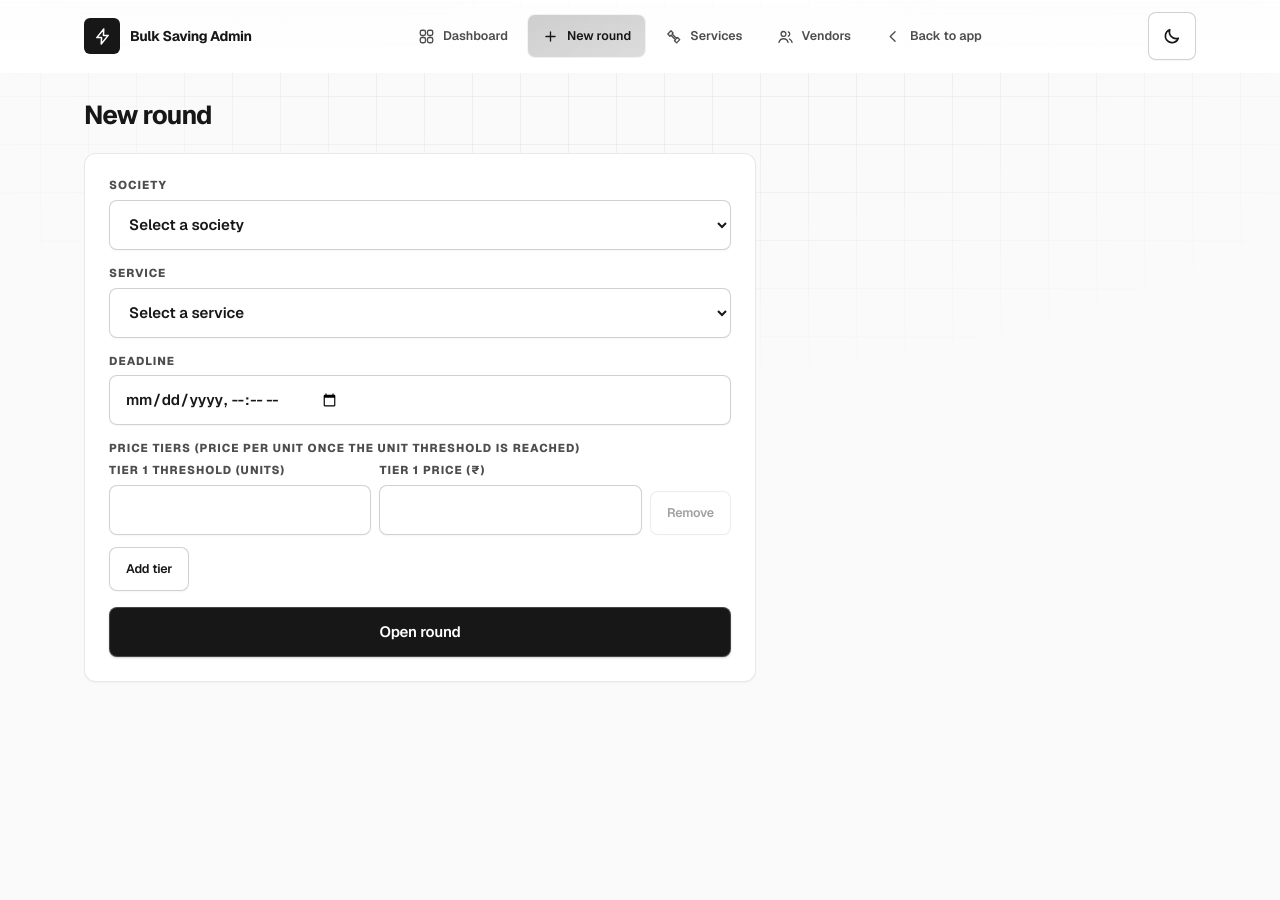
Test: AdminNewRoundPage › shows the server error inline
Select "Green Park (Pune)" in the dropdown labelled "Society" at (420, 225), box [109, 200, 731, 250]
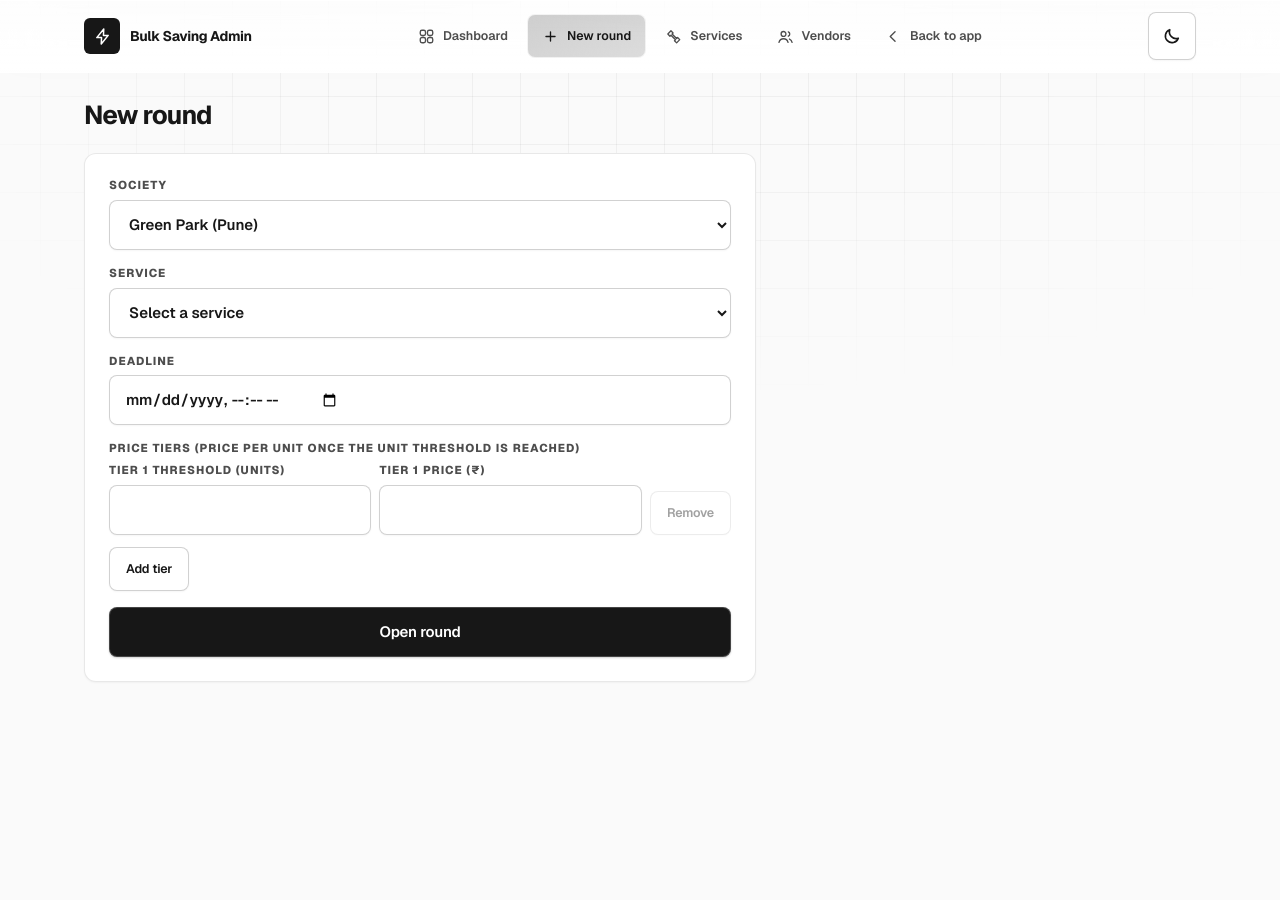
Select "AC Servicing" in the dropdown labelled "Service" at (420, 313), box [109, 288, 731, 338]
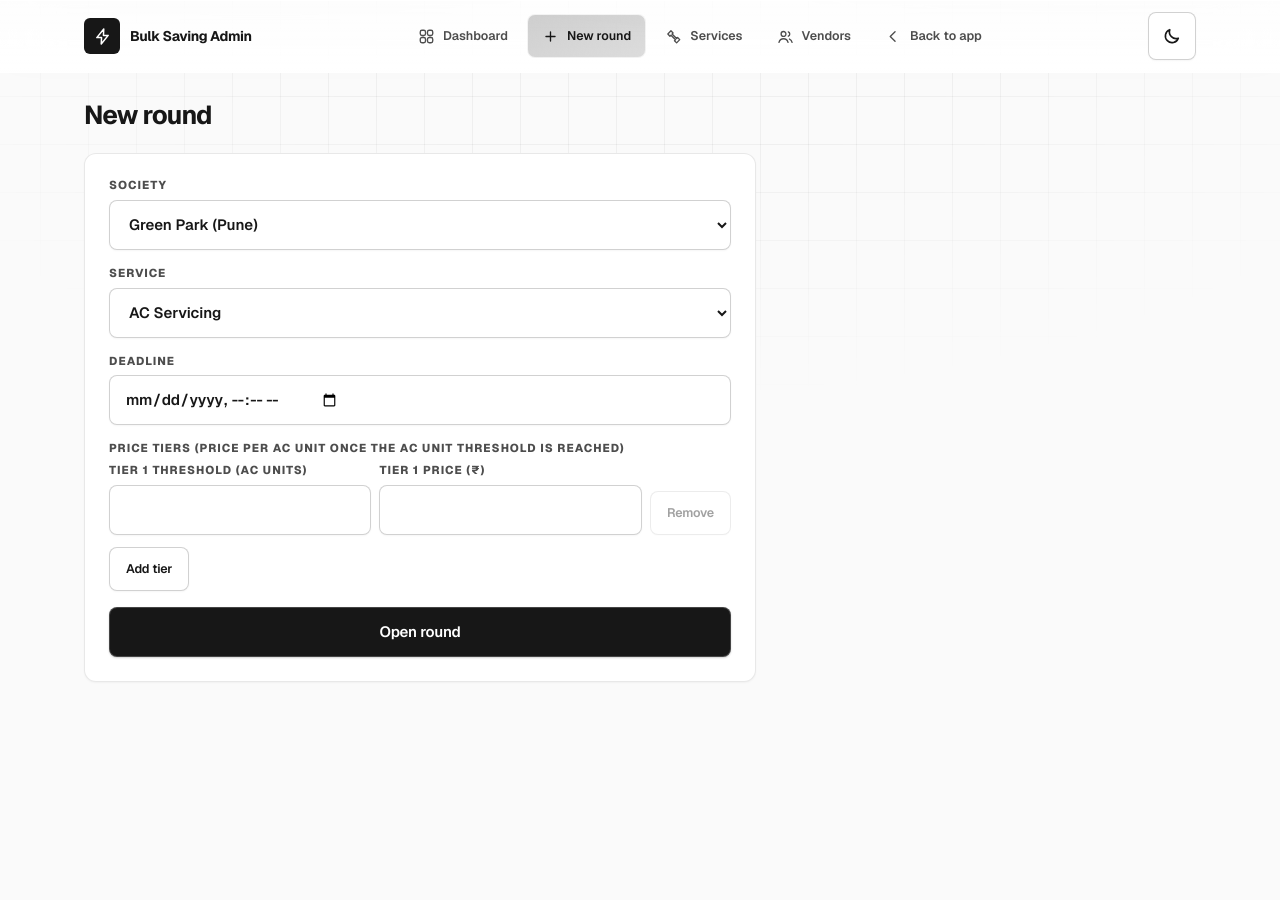
Type "2026-10-01T18:00" into the field labelled "Deadline" at (420, 400), box [109, 376, 731, 426]
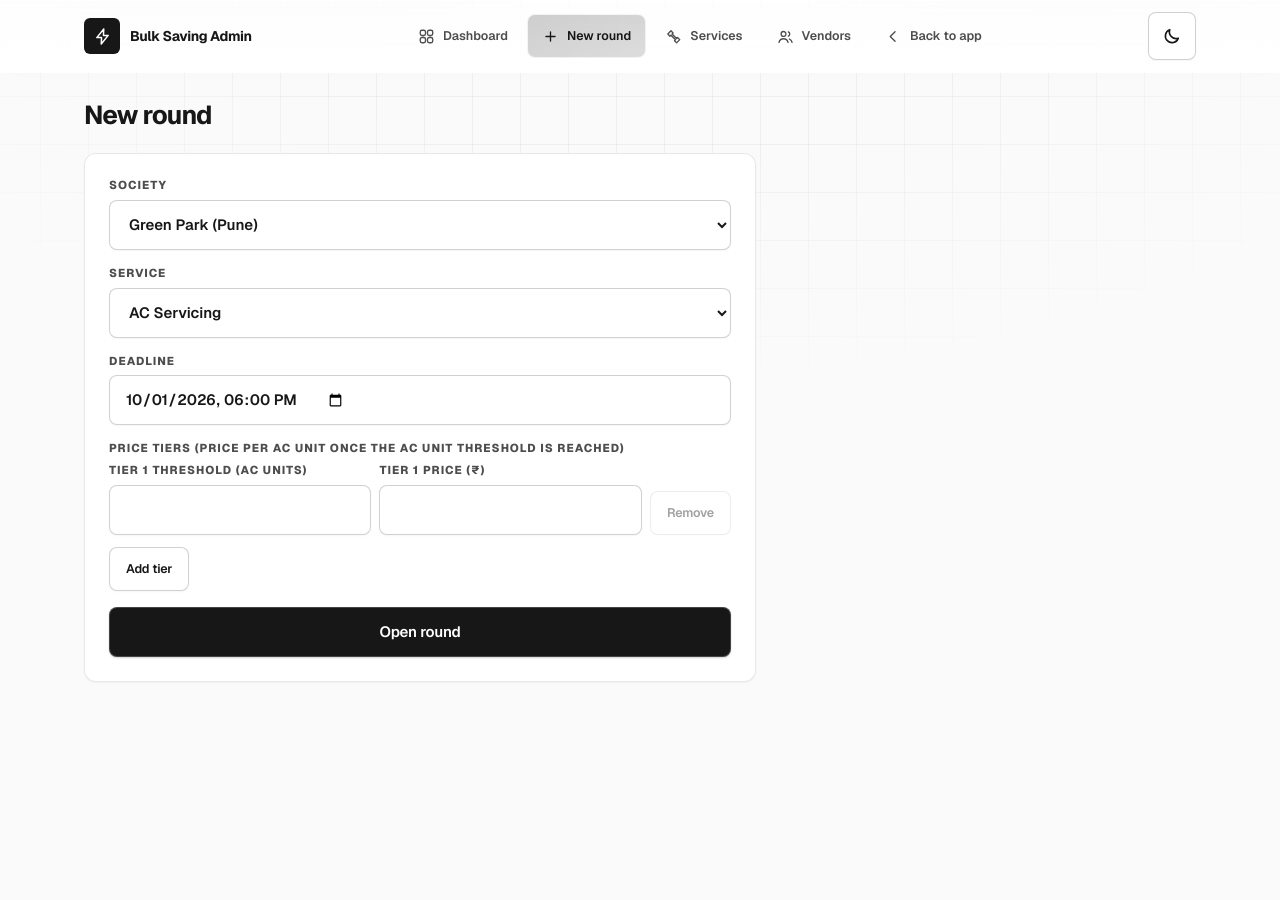
Type "5" into the number field labelled "Tier 1 threshold (AC units)" at (240, 510), box [109, 485, 372, 535]
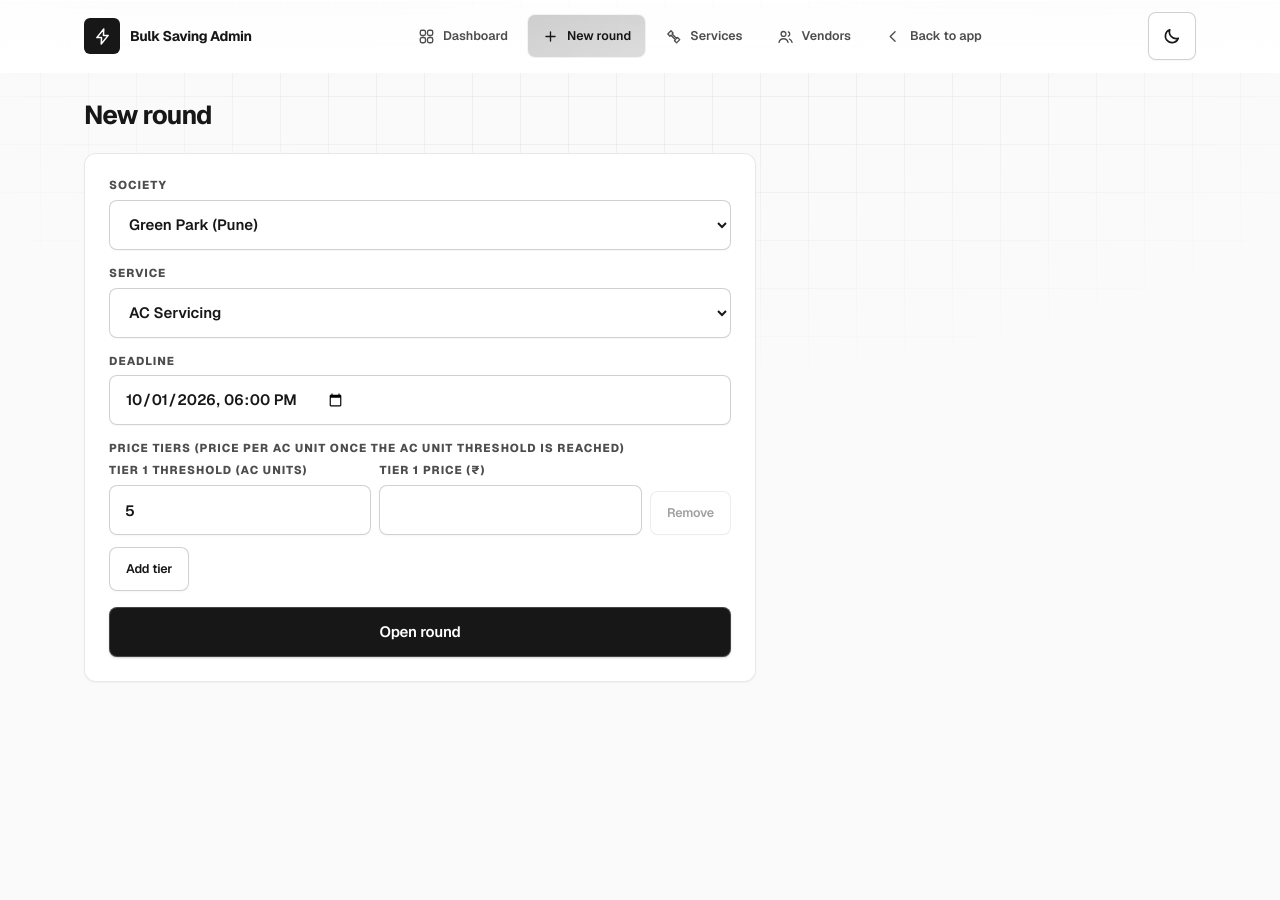
Type "900" into the number field labelled "Tier 1 price (₹)" at (511, 510), box [380, 485, 642, 535]
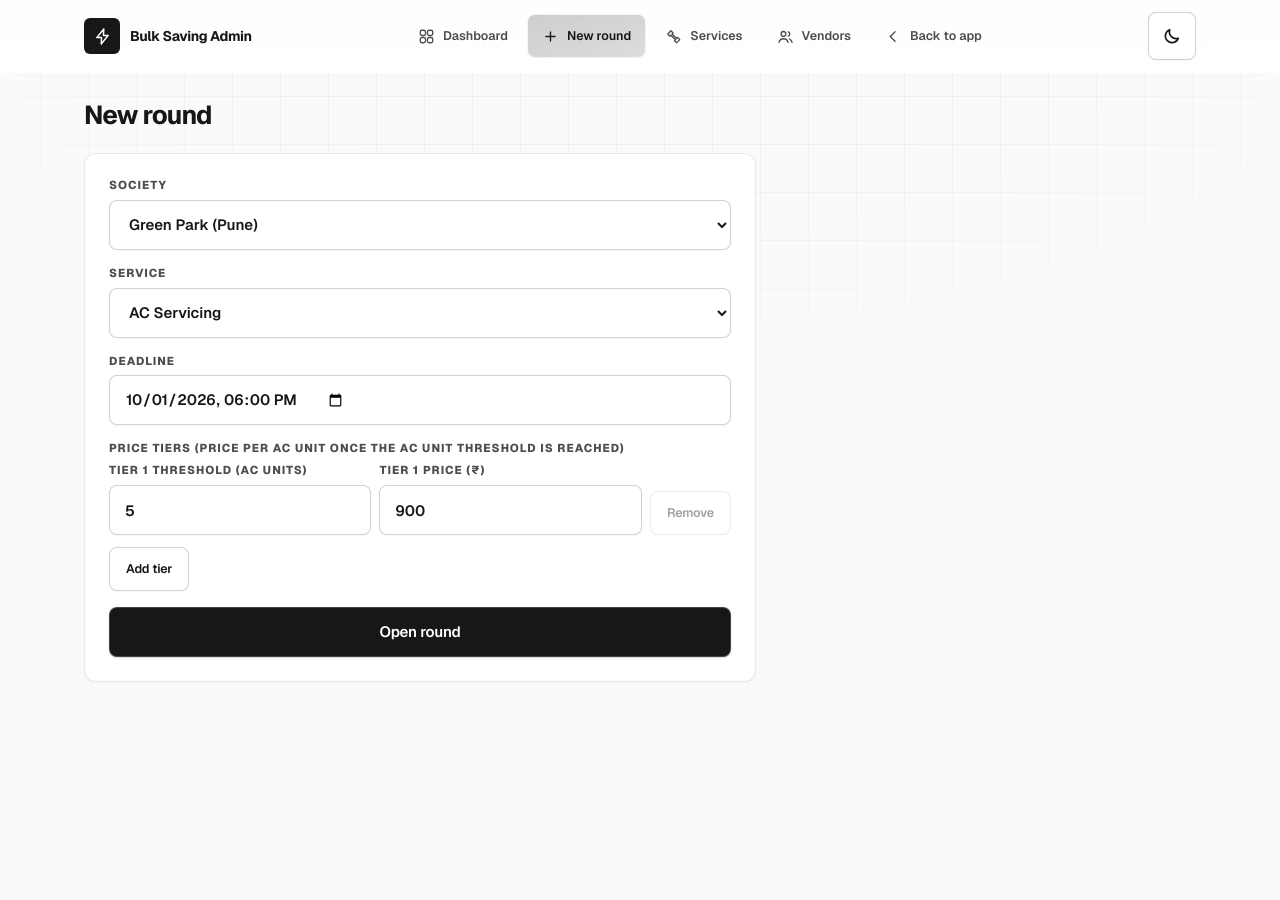
Click the button "Open round" at (420, 632), box [109, 607, 731, 657]
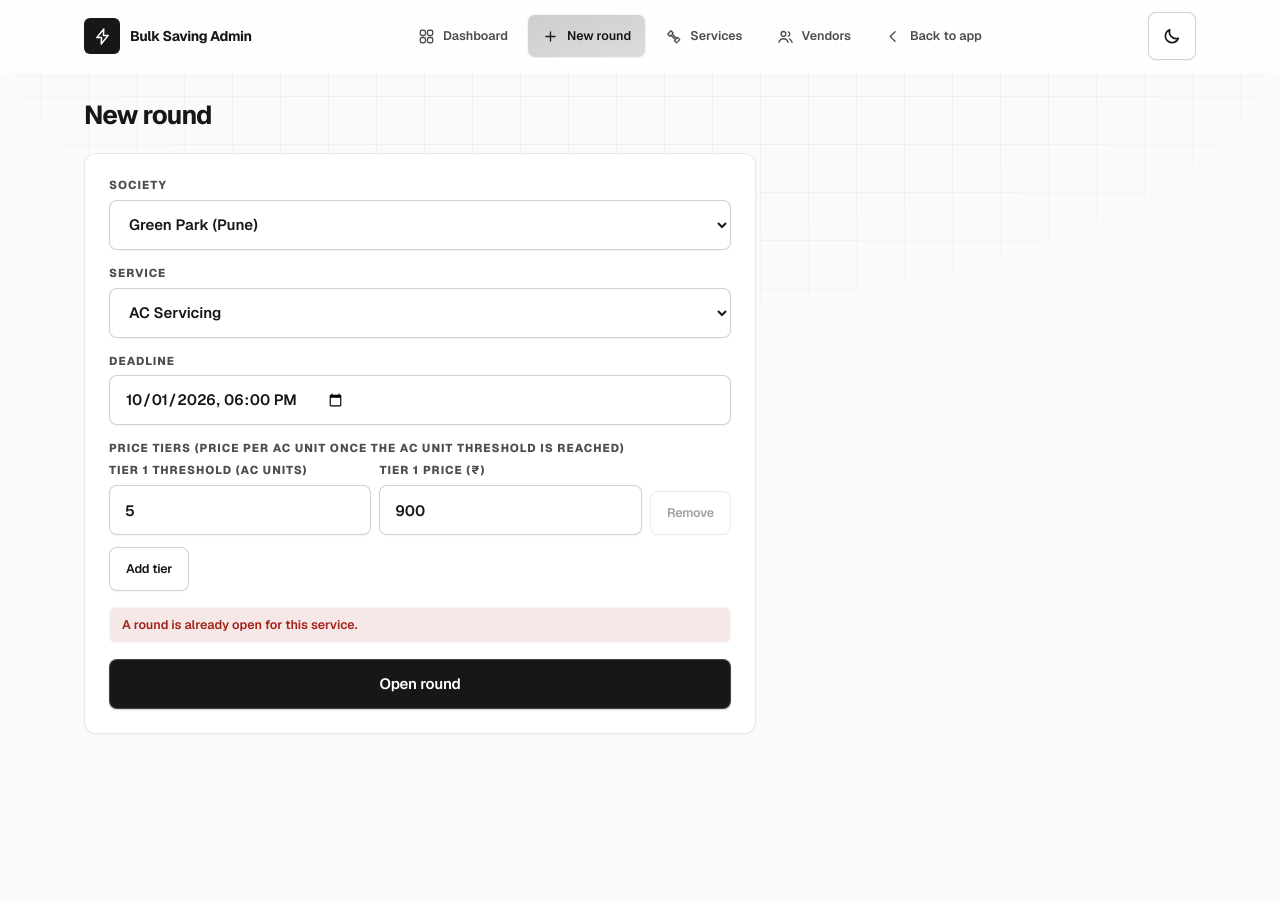
Now the message reads "A round is already open for this service.", box [122, 616, 358, 633]
